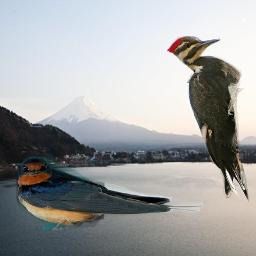Swallow: (12, 153, 203, 230)
Woodpecker: (166, 35, 250, 202)
